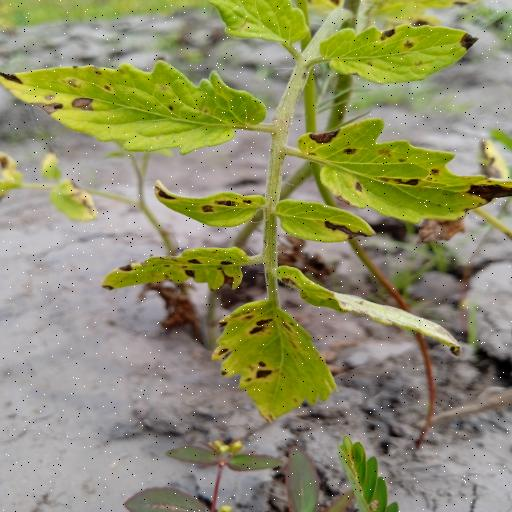Tomato_Brown_Spots: (0, 54, 270, 156), (292, 116, 512, 227), (208, 299, 338, 426), (321, 19, 484, 85), (102, 242, 250, 298), (152, 181, 268, 231), (280, 200, 375, 244)
